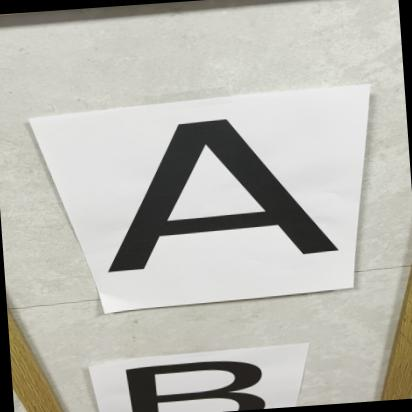seat: (108, 98, 351, 276)
